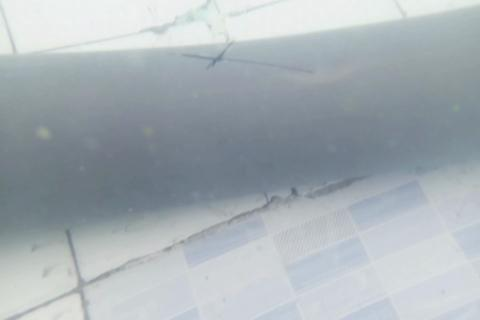keretakan: (172, 43, 315, 78)
